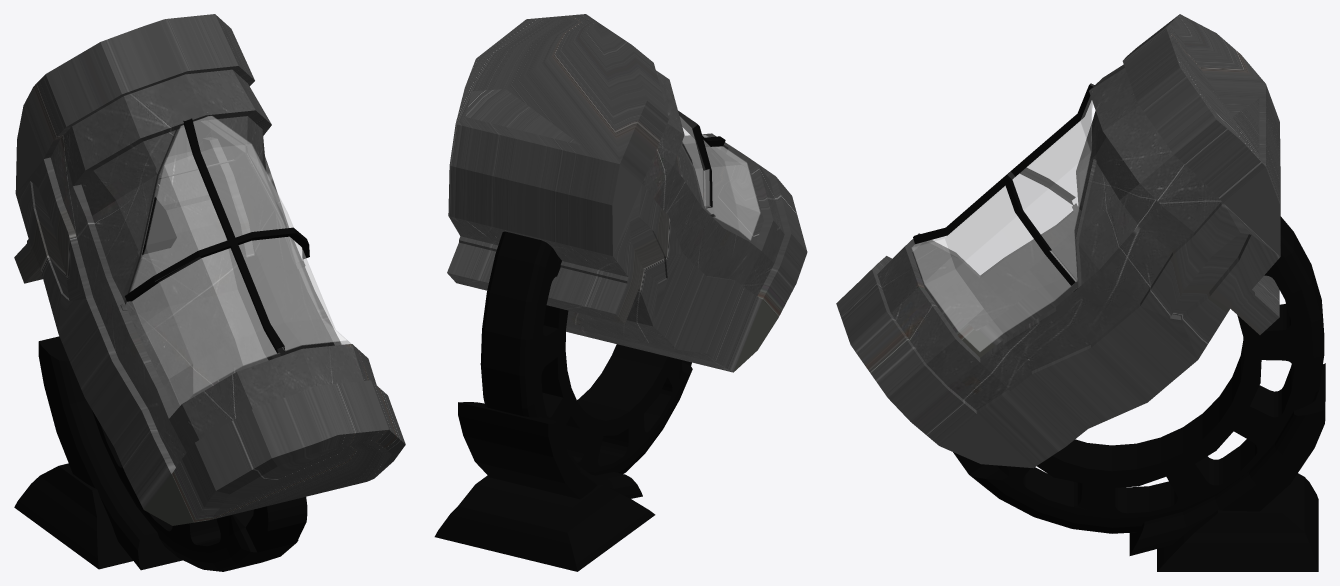
The model's file is enfermeriaCapsula 1.fbx.
The picture shows the model from 3 angles, left to right: view 1: azimuth 30°, elevation 25°; view 2: azimuth 150°, elevation 25°; view 3: azimuth 270°, elevation 25°; orthographic projection. The views are drawn at different scales.
Visible parts, largest first — view 1: Cylinder.005, Cylinder.006, Cylinder.001, Cylinder.008, Cylinder.003; view 2: Cylinder.005, Cylinder.001, Cylinder.003, Cylinder.008, Cylinder.006; view 3: Cylinder.005, Cylinder.001, Cylinder.006, Cylinder.003, Cylinder.008.
Part boxes in pixels (left/top/right/bottom): Cylinder.005: left=14, top=14, right=405, bottom=525; Cylinder.006: left=125, top=116, right=351, bottom=405; Cylinder.001: left=92, top=197, right=307, bottom=571; Cylinder.008: left=38, top=336, right=182, bottom=570; Cylinder.003: left=14, top=463, right=132, bottom=569; Cylinder.005: left=447, top=14, right=807, bottom=372; Cylinder.001: left=480, top=231, right=692, bottom=475; Cylinder.003: left=434, top=475, right=655, bottom=571; Cylinder.008: left=458, top=402, right=642, bottom=499; Cylinder.006: left=678, top=110, right=760, bottom=240; Cylinder.005: left=836, top=14, right=1280, bottom=468; Cylinder.001: left=953, top=216, right=1324, bottom=533; Cylinder.006: left=912, top=83, right=1094, bottom=351; Cylinder.003: left=1157, top=473, right=1318, bottom=571; Cylinder.008: left=1129, top=363, right=1325, bottom=555.
Size of the model in its own units: 130 by 338 by 297.
Materials: 6 (1 with a texture image).
